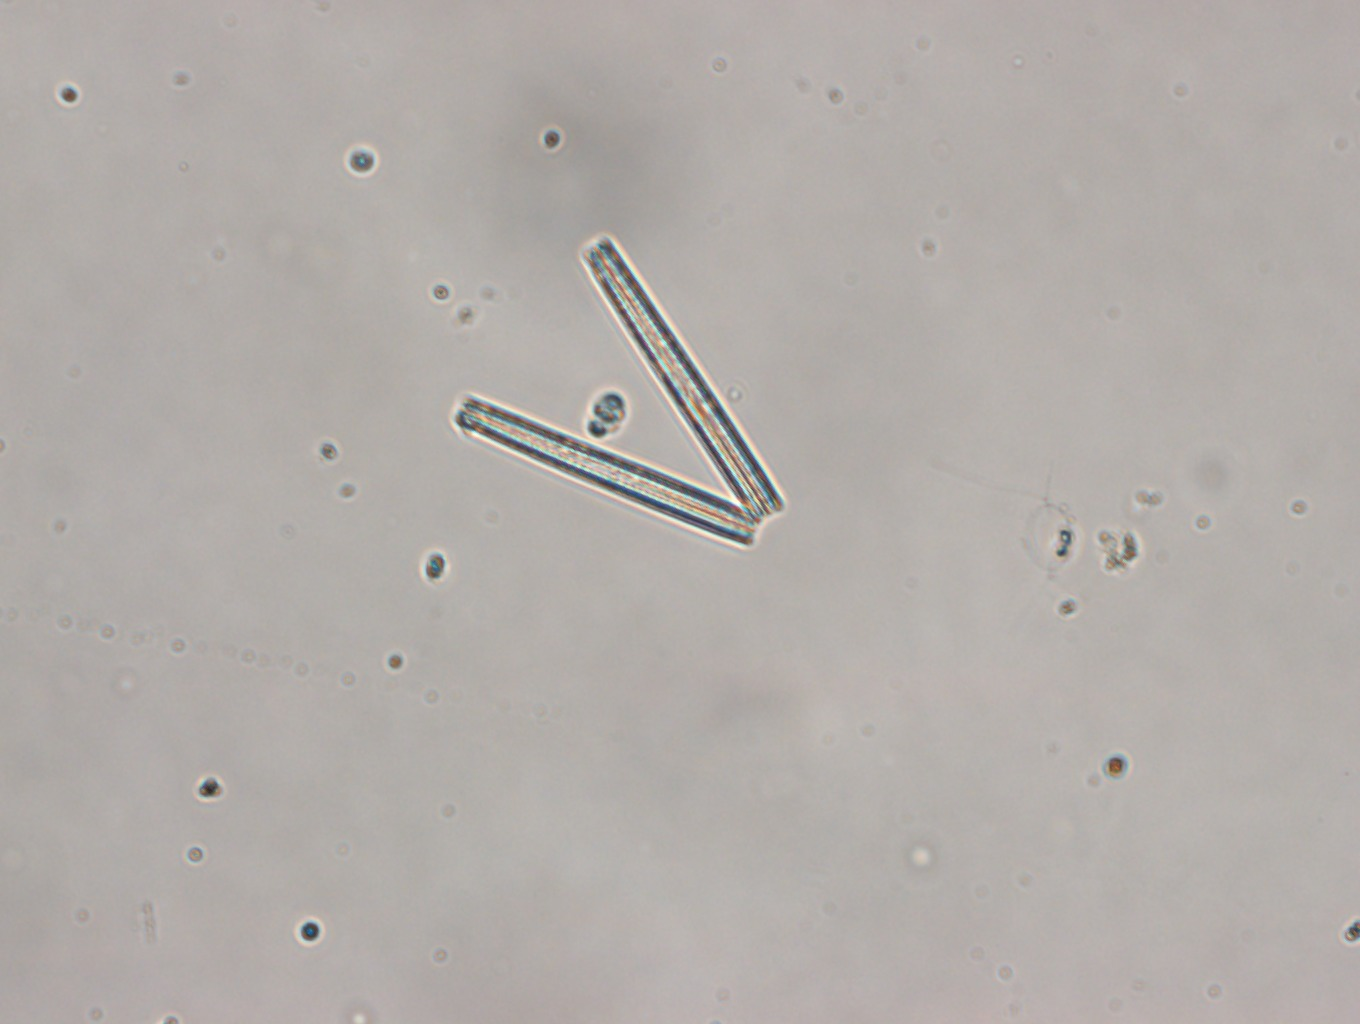thalassionema nitzschioides: (452, 234, 786, 550)
